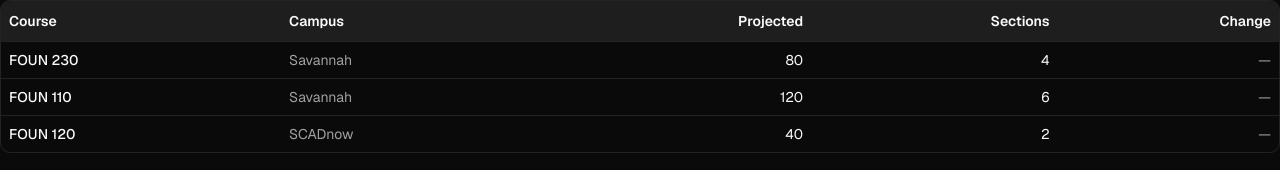
Test: DataTable › clicking Course header sorts rows ascending by course name
This screenshot has width=1280, height=170.
Step 1. Click the button "Course" → (33, 21), box [9, 11, 57, 31]
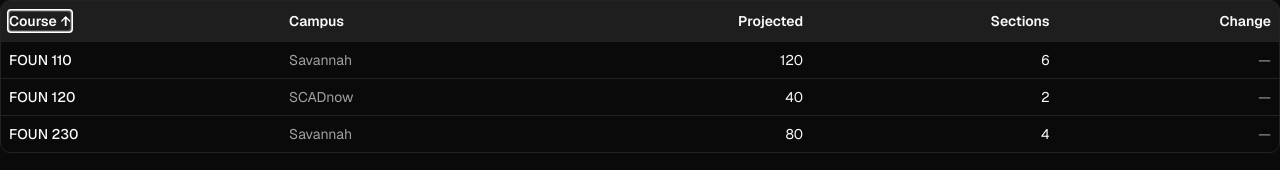
Result: the cell "FOUN 110" is shown at [1, 41, 281, 78]
Result: the cell "FOUN 120" is shown at [1, 78, 281, 115]
Result: the cell "FOUN 230" is shown at [1, 115, 281, 152]
